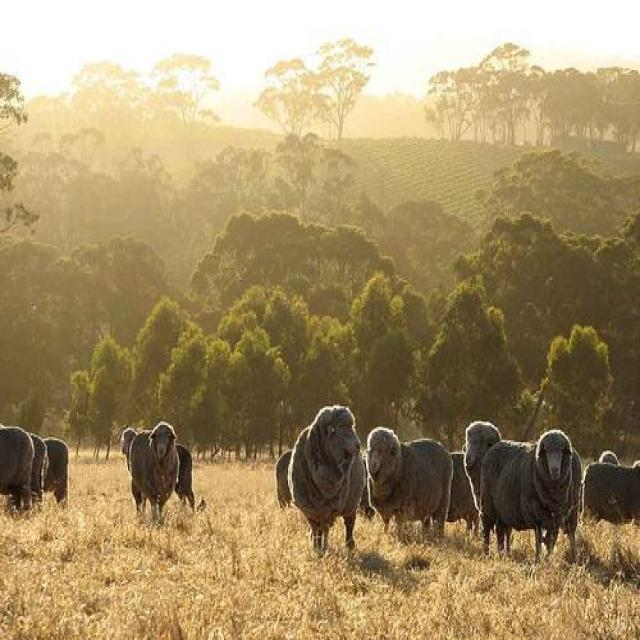Sheep: (482, 428, 582, 564), (288, 406, 366, 551), (368, 430, 454, 538), (120, 428, 194, 514), (130, 422, 180, 528), (578, 461, 638, 529)
